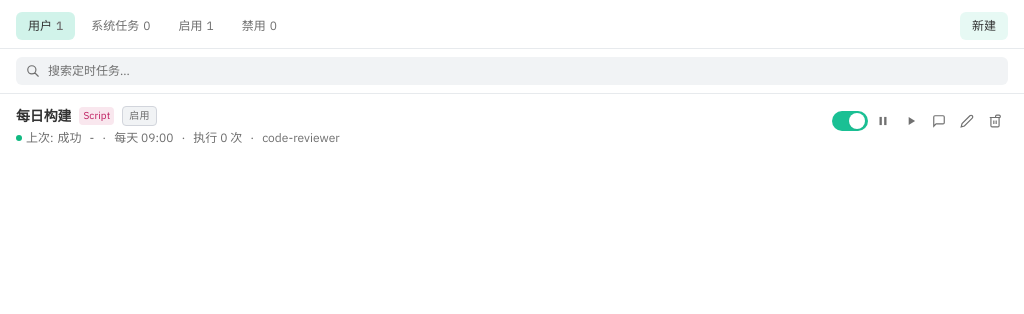
脚本类任务：日志列表与全文（B3） › 抛异常时同样留下可读原因，不回退成空态
The image size is (1024, 314).
Click the button "每日构建 Script 启用 上次: 成功 - · 每天 09:00 · 执行 0 次 · code-reviewer": (44, 116) [16, 106, 820, 146]
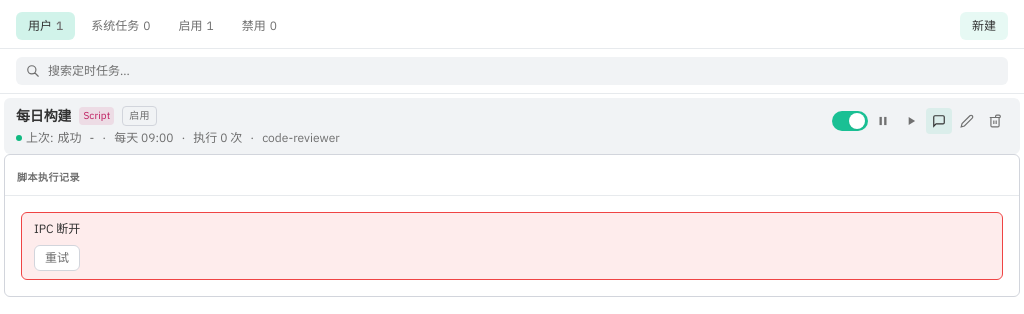
Check: the text "IPC 断开" is shown, box [34, 221, 80, 236]
